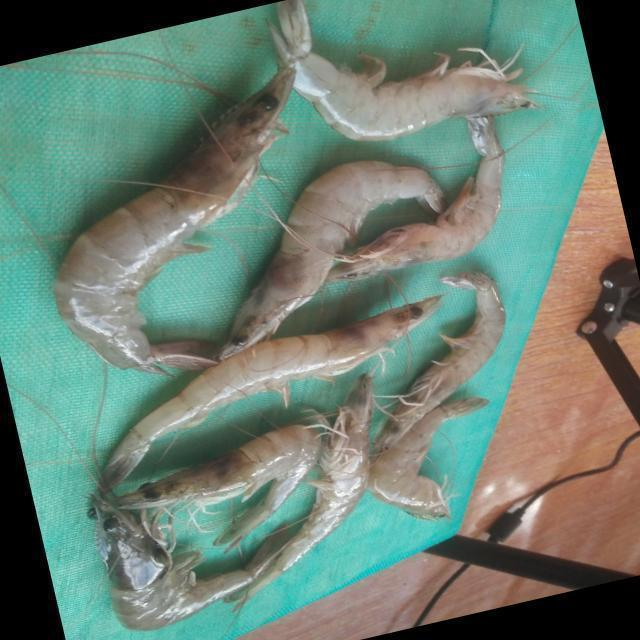shrimp: (52, 66, 293, 374), (100, 295, 442, 490), (215, 160, 447, 360), (268, 0, 540, 140), (226, 374, 374, 609), (325, 114, 505, 280), (113, 424, 321, 548), (92, 496, 280, 631), (375, 270, 506, 454), (367, 397, 489, 521)
